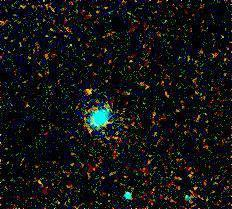star: (70, 74, 100, 104)
